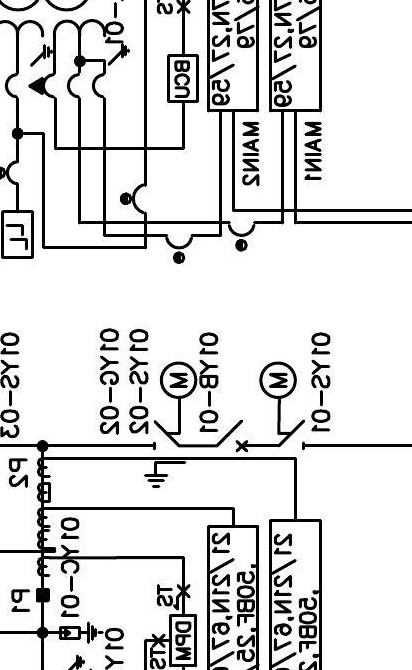115_1way_ds_w_motor: (259, 361, 306, 451)
115_3ways_ds_w_motor: (143, 361, 198, 489)
115_breaker: (216, 419, 248, 453)
115_la: (59, 621, 105, 645)
BCU: (166, 53, 200, 104)
DPM: (169, 613, 197, 667)
LL: (1, 210, 34, 259)
